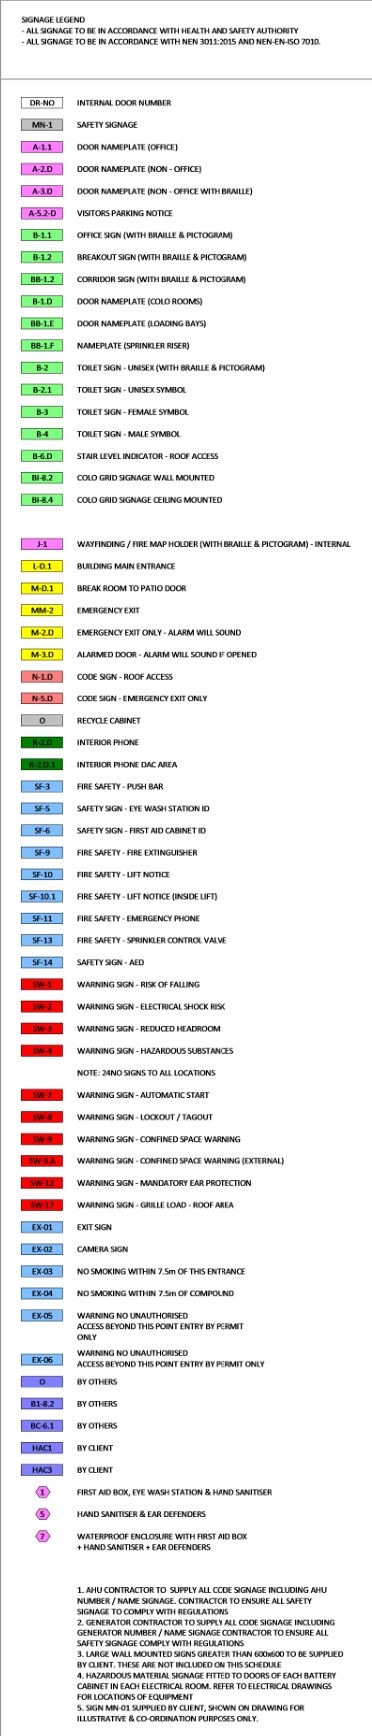hatch: (14, 444, 64, 465), (15, 533, 68, 552), (15, 1416, 68, 1436), (18, 1304, 64, 1326), (17, 356, 68, 376), (19, 488, 62, 512), (17, 312, 66, 332), (15, 402, 65, 422), (14, 467, 66, 486), (19, 556, 65, 577), (19, 92, 68, 112), (19, 1239, 68, 1259), (18, 864, 65, 883), (18, 1195, 68, 1213), (19, 136, 62, 157), (17, 647, 68, 664), (17, 1129, 68, 1147), (18, 226, 65, 245), (18, 777, 65, 796), (20, 887, 68, 906), (20, 931, 68, 950), (19, 1217, 66, 1236), (17, 182, 66, 199), (19, 290, 63, 310), (14, 624, 64, 642), (18, 669, 68, 686), (18, 1282, 68, 1300), (18, 1019, 64, 1037), (15, 1461, 68, 1478), (17, 337, 65, 354), (19, 380, 68, 397), (20, 819, 61, 840), (19, 600, 62, 620), (19, 711, 62, 731), (15, 734, 66, 751), (13, 1108, 64, 1125), (13, 1352, 64, 1368), (17, 115, 64, 133), (19, 424, 66, 442), (19, 974, 66, 992), (18, 1153, 65, 1170), (20, 1261, 68, 1279), (17, 1438, 64, 1456), (18, 248, 62, 267), (19, 907, 63, 926), (20, 204, 66, 221), (19, 580, 65, 598), (18, 689, 64, 706), (19, 1394, 65, 1412), (20, 841, 63, 860), (18, 1373, 66, 1389), (18, 159, 65, 176), (19, 755, 66, 772), (18, 953, 65, 970), (20, 1041, 62, 1058), (20, 1175, 64, 1191), (21, 270, 62, 288), (19, 1086, 62, 1103), (19, 999, 64, 1014), (18, 800, 65, 815), (25, 1482, 60, 1501), (30, 1527, 61, 1547), (29, 1503, 59, 1521)
label: (71, 1526, 258, 1557), (70, 1311, 251, 1341), (73, 1346, 271, 1372), (73, 536, 353, 551), (70, 1151, 287, 1170), (71, 359, 269, 378), (69, 244, 256, 263), (69, 1484, 285, 1500), (74, 1282, 241, 1302), (72, 1041, 238, 1061), (73, 1261, 257, 1279), (71, 1196, 242, 1215), (74, 1129, 249, 1147), (70, 270, 256, 287), (74, 645, 259, 662), (70, 492, 239, 509), (72, 183, 251, 199), (72, 469, 227, 488), (69, 1175, 256, 1190), (70, 888, 224, 907), (71, 929, 232, 947), (69, 292, 211, 311), (73, 798, 219, 816), (68, 624, 246, 639), (71, 996, 231, 1012), (75, 1020, 225, 1036), (72, 820, 207, 838), (71, 689, 215, 705), (71, 1108, 224, 1124), (70, 1087, 218, 1103), (69, 337, 198, 354), (72, 401, 201, 418), (66, 1506, 214, 1521), (71, 843, 206, 859), (69, 976, 213, 992), (74, 158, 211, 174), (69, 228, 242, 240), (72, 424, 189, 442), (69, 558, 185, 576), (72, 316, 209, 330), (69, 580, 194, 596), (68, 139, 184, 156), (74, 910, 208, 924), (70, 448, 223, 461), (74, 756, 183, 773), (71, 777, 172, 795), (71, 867, 179, 882), (71, 669, 184, 683), (71, 383, 196, 395), (73, 113, 151, 132), (70, 953, 156, 970), (69, 206, 175, 219), (69, 711, 147, 728), (70, 96, 183, 108), (69, 734, 151, 750), (73, 602, 144, 618), (69, 1393, 126, 1412), (72, 1241, 137, 1257), (70, 1415, 123, 1434), (71, 1436, 115, 1458), (74, 1460, 123, 1478), (75, 1373, 130, 1388), (73, 1220, 118, 1234)
